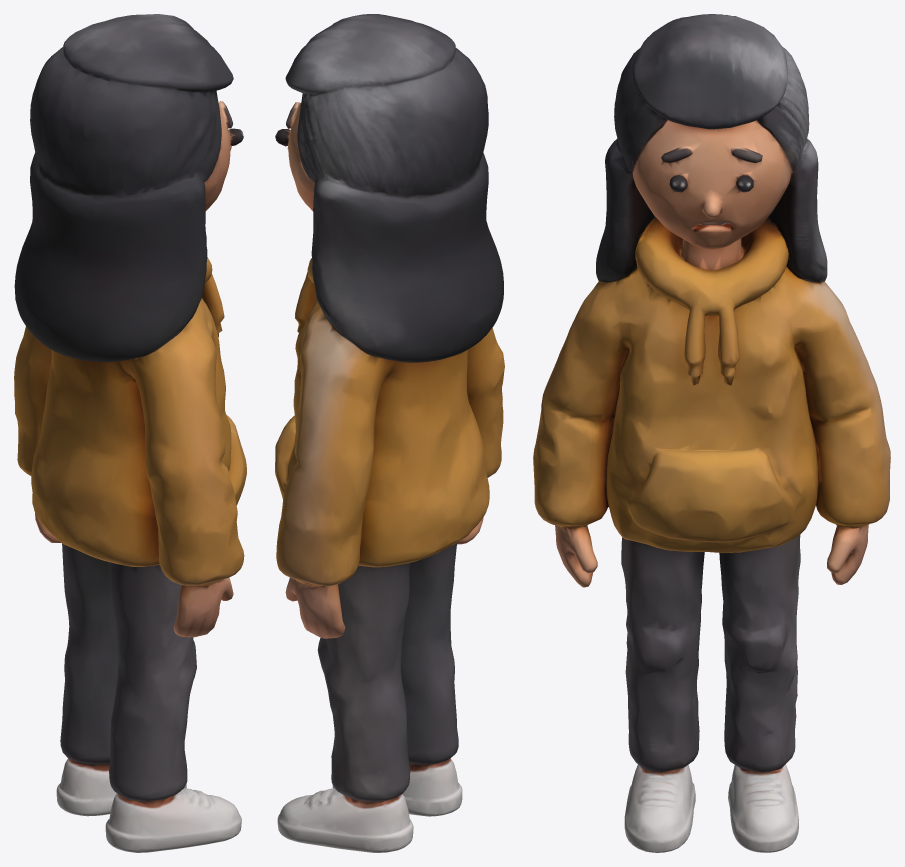
Rendered from haru_tripo.glb.
3 views of the same model, side by side, from view 1: azimuth 30°, elevation 25°; view 2: azimuth 150°, elevation 25°; view 3: azimuth 270°, elevation 25° (orthographic).
Parts seen in each view (by area): view 1: tripo_node_b326b412-33bd-40a2-b7d1-bf7631f53fc8; view 2: tripo_node_b326b412-33bd-40a2-b7d1-bf7631f53fc8; view 3: tripo_node_b326b412-33bd-40a2-b7d1-bf7631f53fc8.
Part boxes in pixels (<box>): tripo_node_b326b412-33bd-40a2-b7d1-bf7631f53fc8: <box>14,14,246,852</box>; tripo_node_b326b412-33bd-40a2-b7d1-bf7631f53fc8: <box>275,14,504,852</box>; tripo_node_b326b412-33bd-40a2-b7d1-bf7631f53fc8: <box>533,14,890,852</box>.
Size of the model in its own units: 0.2571 by 1 by 0.4086.
1 material, 1 textured.
